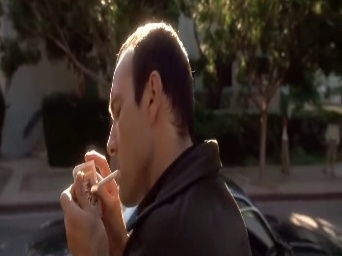smoke: (90, 168, 122, 189)
